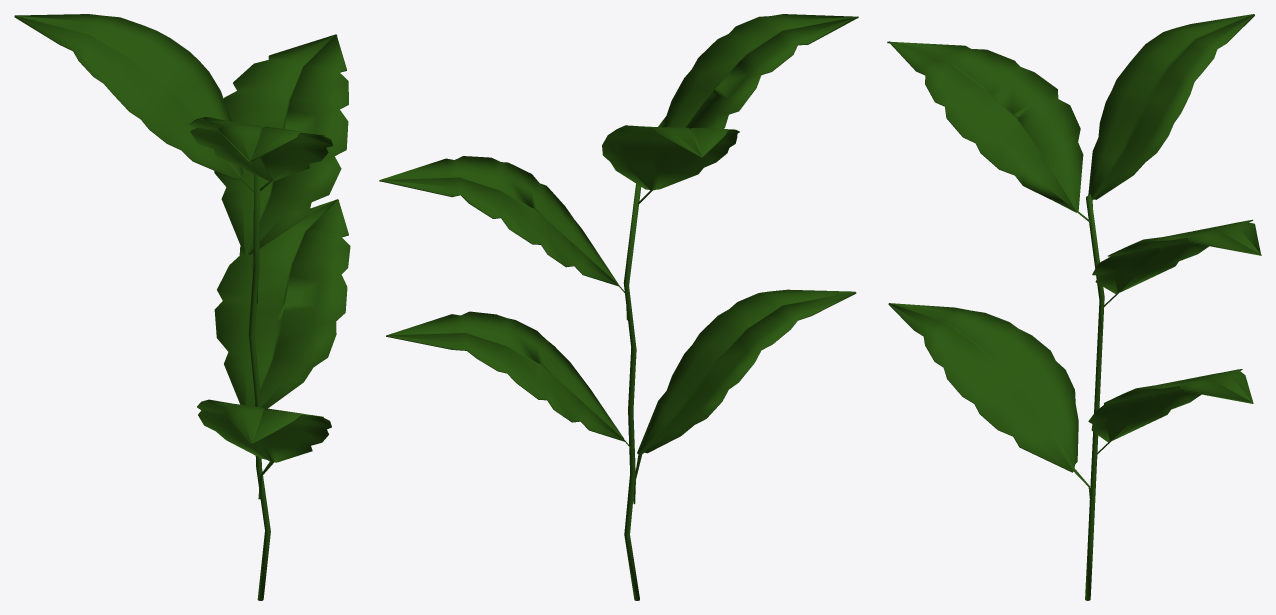
File: TomateBroto.fbx
3 views of the same model, side by side, from view 1: azimuth 30°, elevation 25°; view 2: azimuth 150°, elevation 25°; view 3: azimuth 270°, elevation 25° (orthographic). The views are drawn at different scales.
Parts seen in each view (by area): view 1: TomateBroto; view 2: TomateBroto; view 3: TomateBroto.
Boxes of the visible parts, box(x1,y1,x2,y2) form: TomateBroto: box(14, 14, 350, 600); TomateBroto: box(379, 14, 858, 600); TomateBroto: box(887, 14, 1261, 600).
Bounding box in the file's own units: 34.45 × 56.13 × 36.96.
